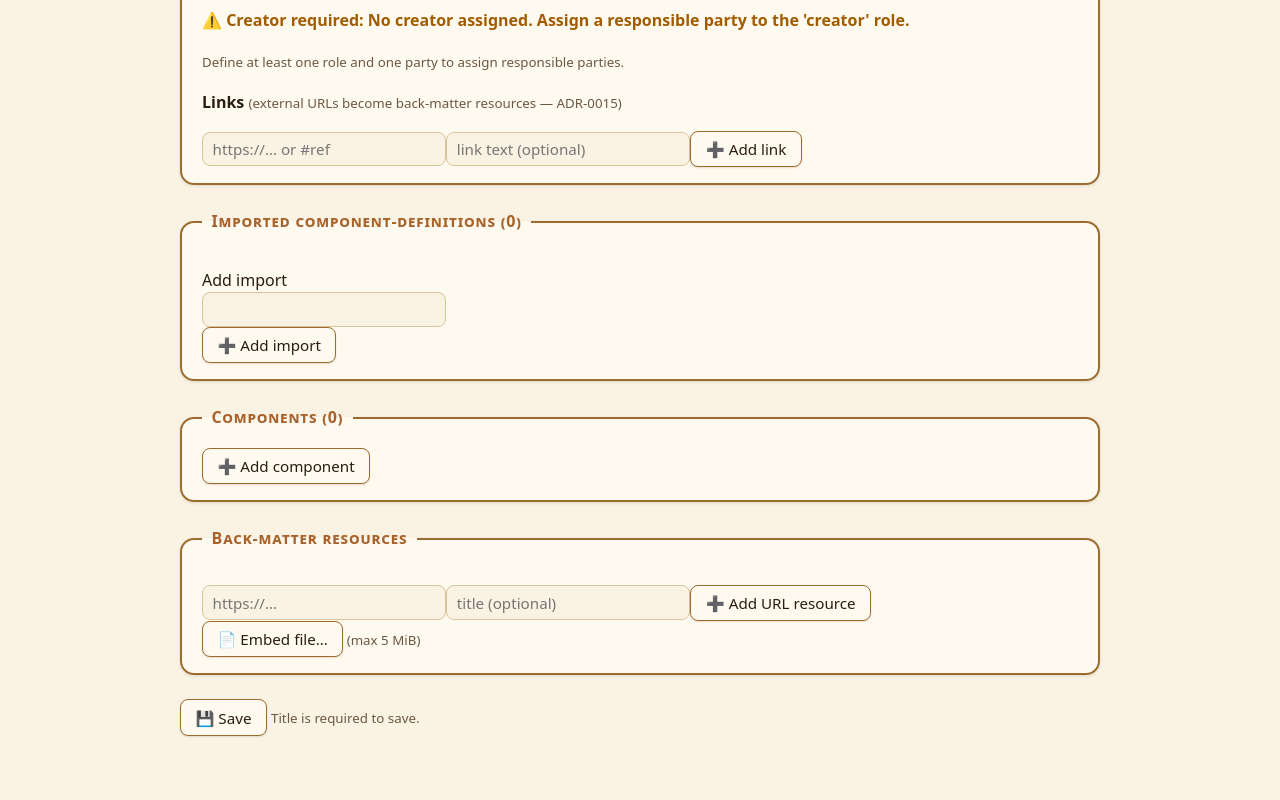
Test: no workspace catalogs — guidance message (T-161) › does not show the message once a workspace catalog exists
(page scrolled)
Click the button with test id "add-component" at (286, 466), box [202,448,370,484]
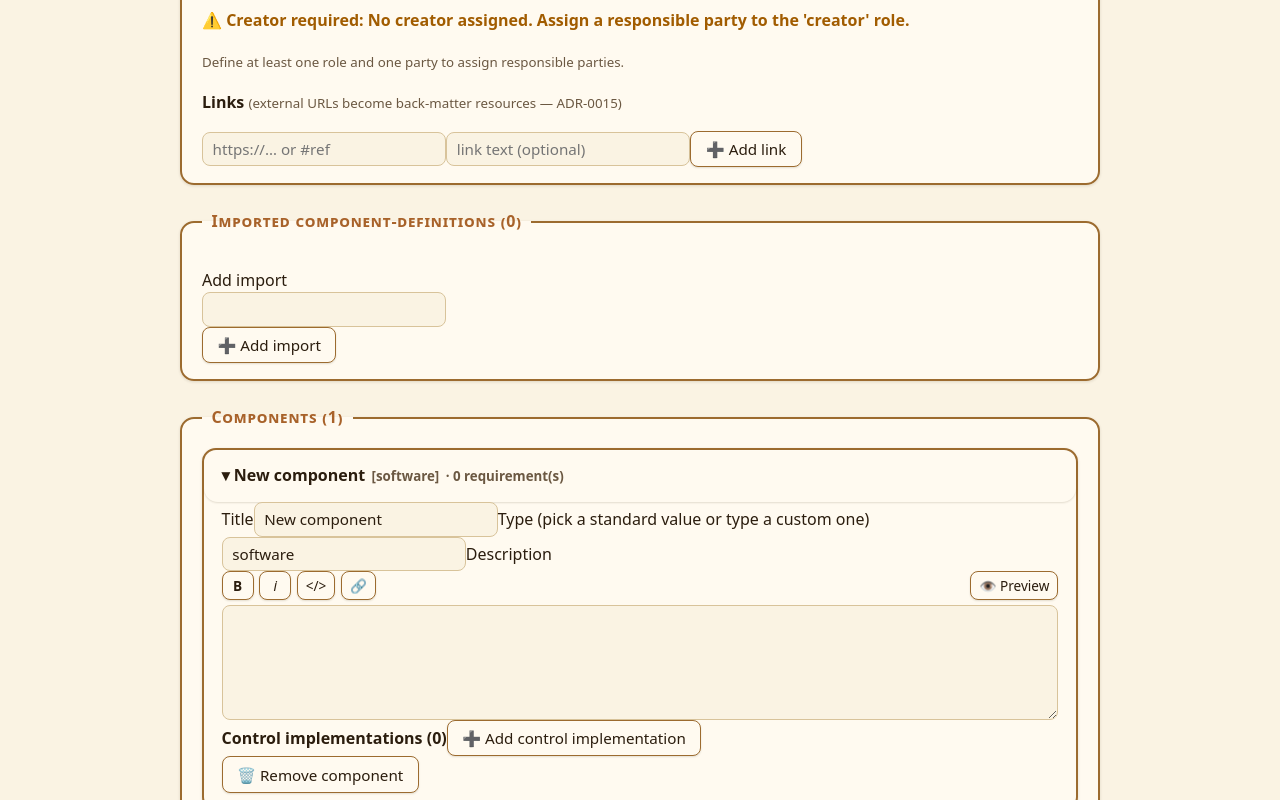
Click the button with test id "add-control-implementation" at (574, 738), box [447,720,701,756]
(page scrolled)
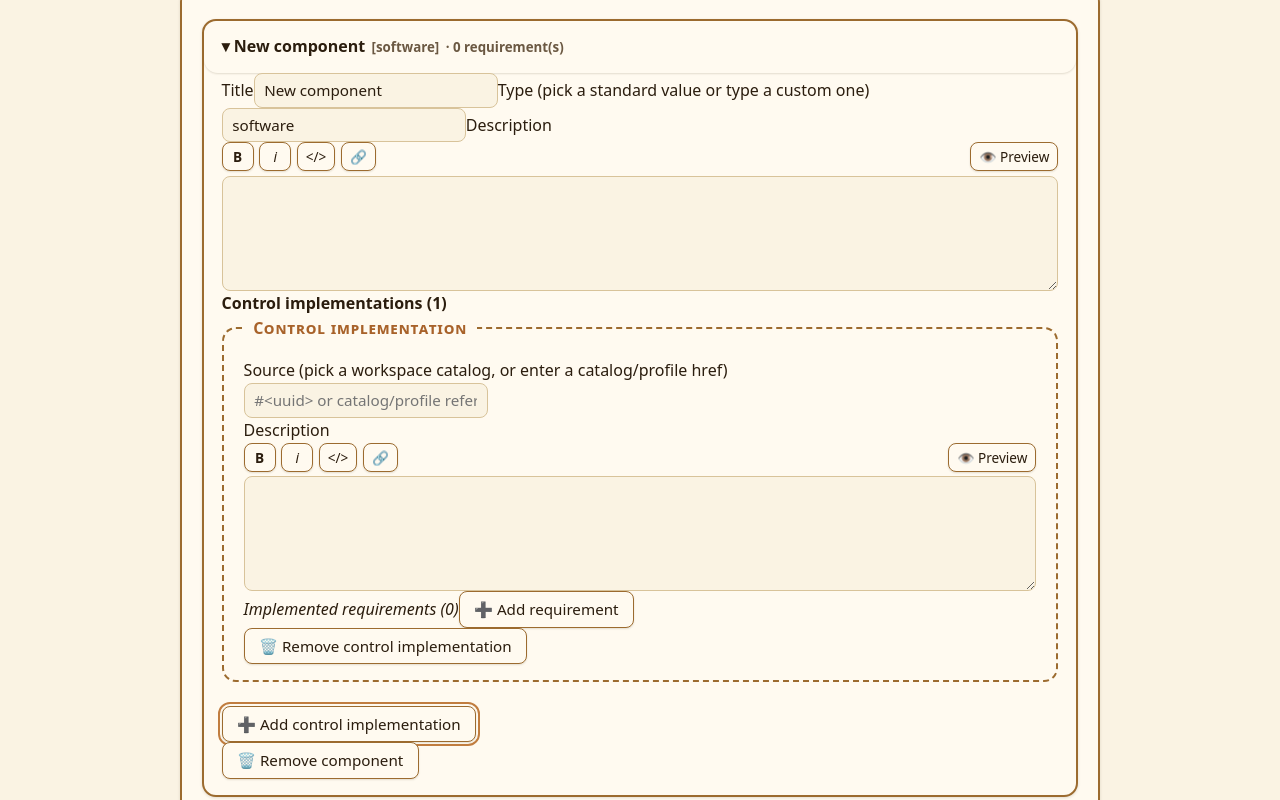
Type "BSI Kernel" into the field with test id "ci-source-input" at (366, 400), box [244,383,488,418]
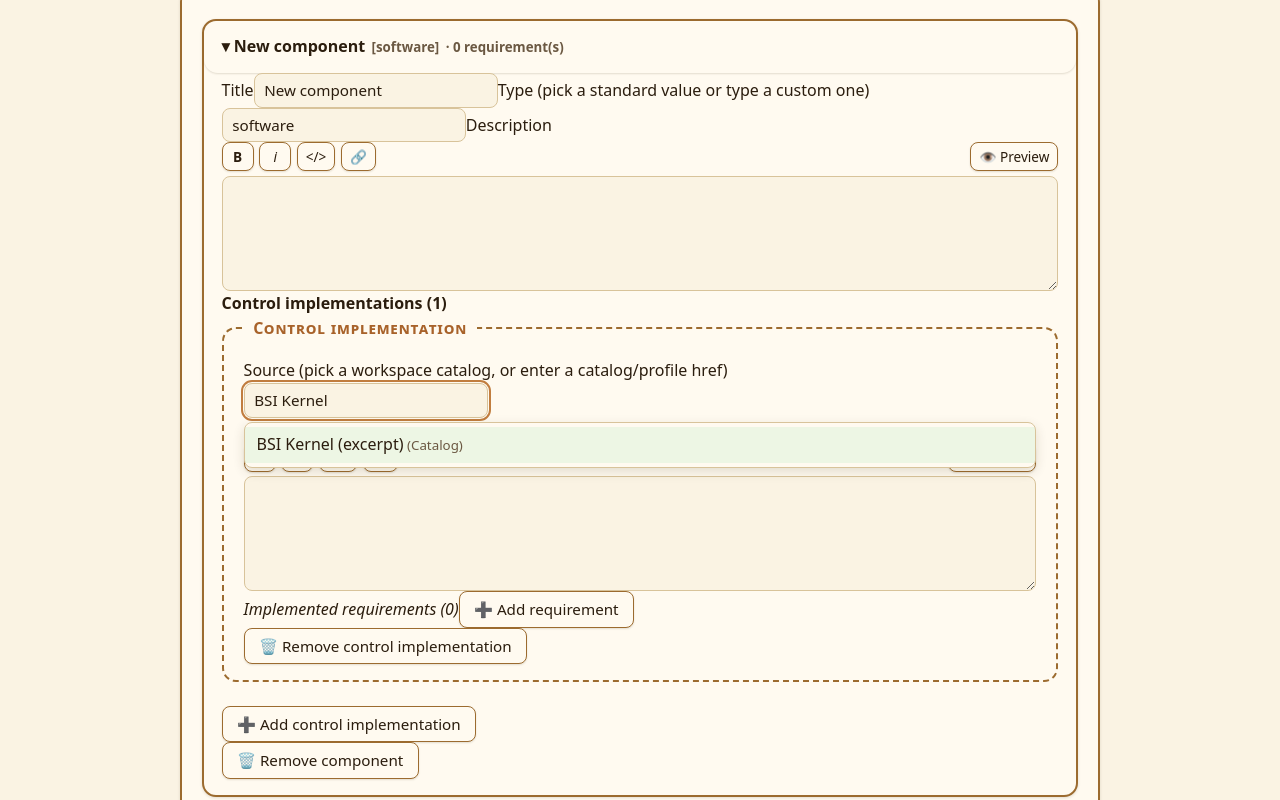
Now the list item "BSI Kernel (excerpt)" is shown, box [257,433,404,455]
